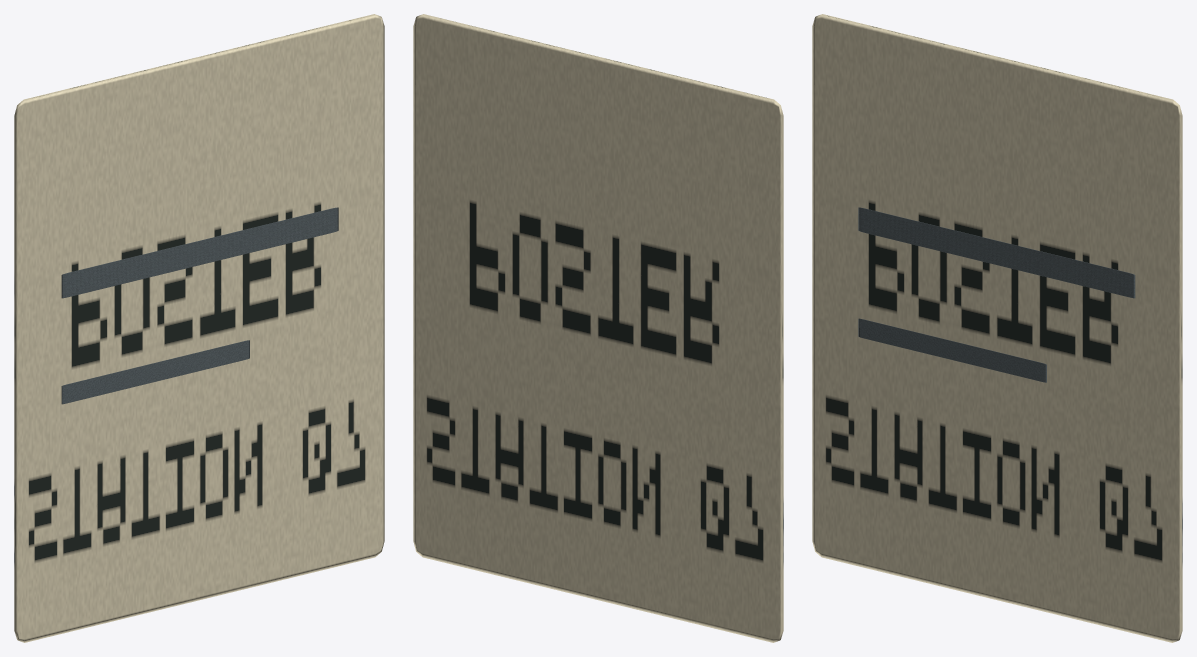
Rendered from poster.glb.
3 renders of one model, left to right at view 1: azimuth 30°, elevation 25°; view 2: azimuth 150°, elevation 25°; view 3: azimuth 330°, elevation 25°, orthographic.
Parts seen in each view (by area): view 1: board, stripe, line; view 2: board; view 3: board, stripe, line.
Boxes of the visible parts, x1=… form: board: x1=14, y1=14, x2=384, y2=642; stripe: x1=61, y1=207, x2=338, y2=298; line: x1=61, y1=340, x2=249, y2=404; board: x1=413, y1=14, x2=783, y2=642; board: x1=812, y1=14, x2=1182, y2=642; stripe: x1=858, y1=207, x2=1135, y2=298; line: x1=858, y1=318, x2=1046, y2=382.
Bounding box in the file's own units: 0.42 × 0.59 × 0.00204.
Materials: 2 (2 with a texture image).
